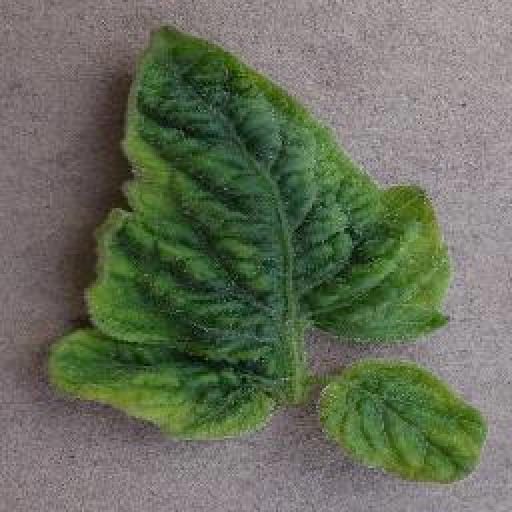disease_tomato: (46, 21, 454, 443), (315, 355, 489, 485)
